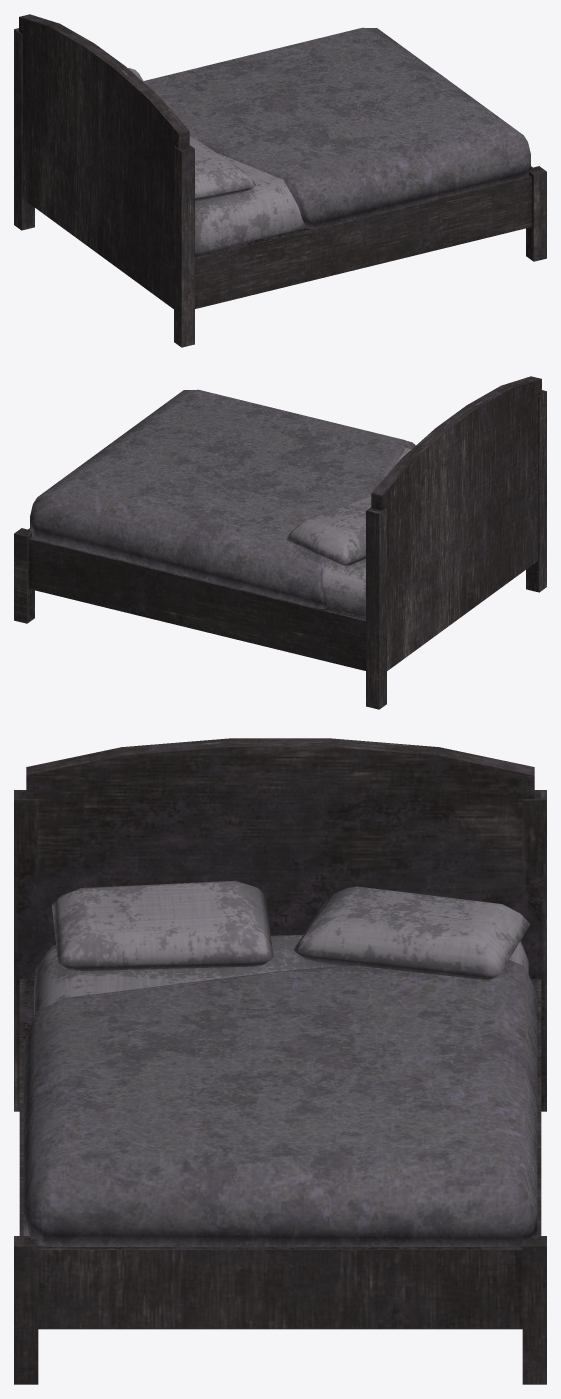
Rendered from oldbed.obj.
3 renders of one model, top to bottom at view 1: azimuth 30°, elevation 25°; view 2: azimuth 150°, elevation 25°; view 3: azimuth 270°, elevation 25°, orthographic. The views are drawn at different scales.
Visible parts, largest first — view 1: Bed; view 2: Bed; view 3: Bed.
Boxes of the visible parts, bbox=[...] form: Bed: bbox=[14, 14, 546, 347]; Bed: bbox=[14, 376, 546, 709]; Bed: bbox=[14, 738, 546, 1384].
Size of the model in its own units: 128 by 76.3 by 101.
